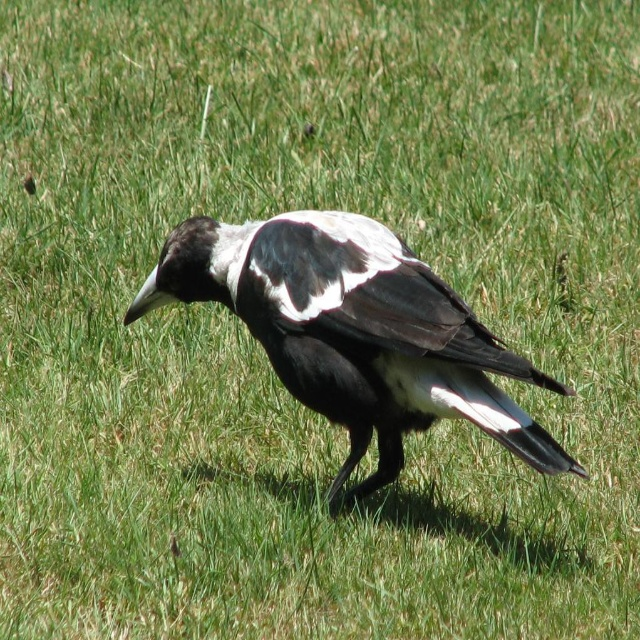Magpie: (124, 210, 590, 515)
